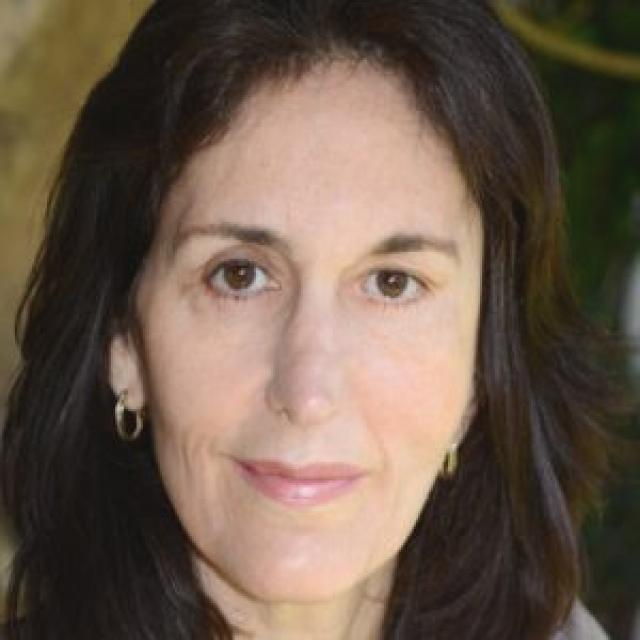normal_face: (94, 0, 515, 598)
